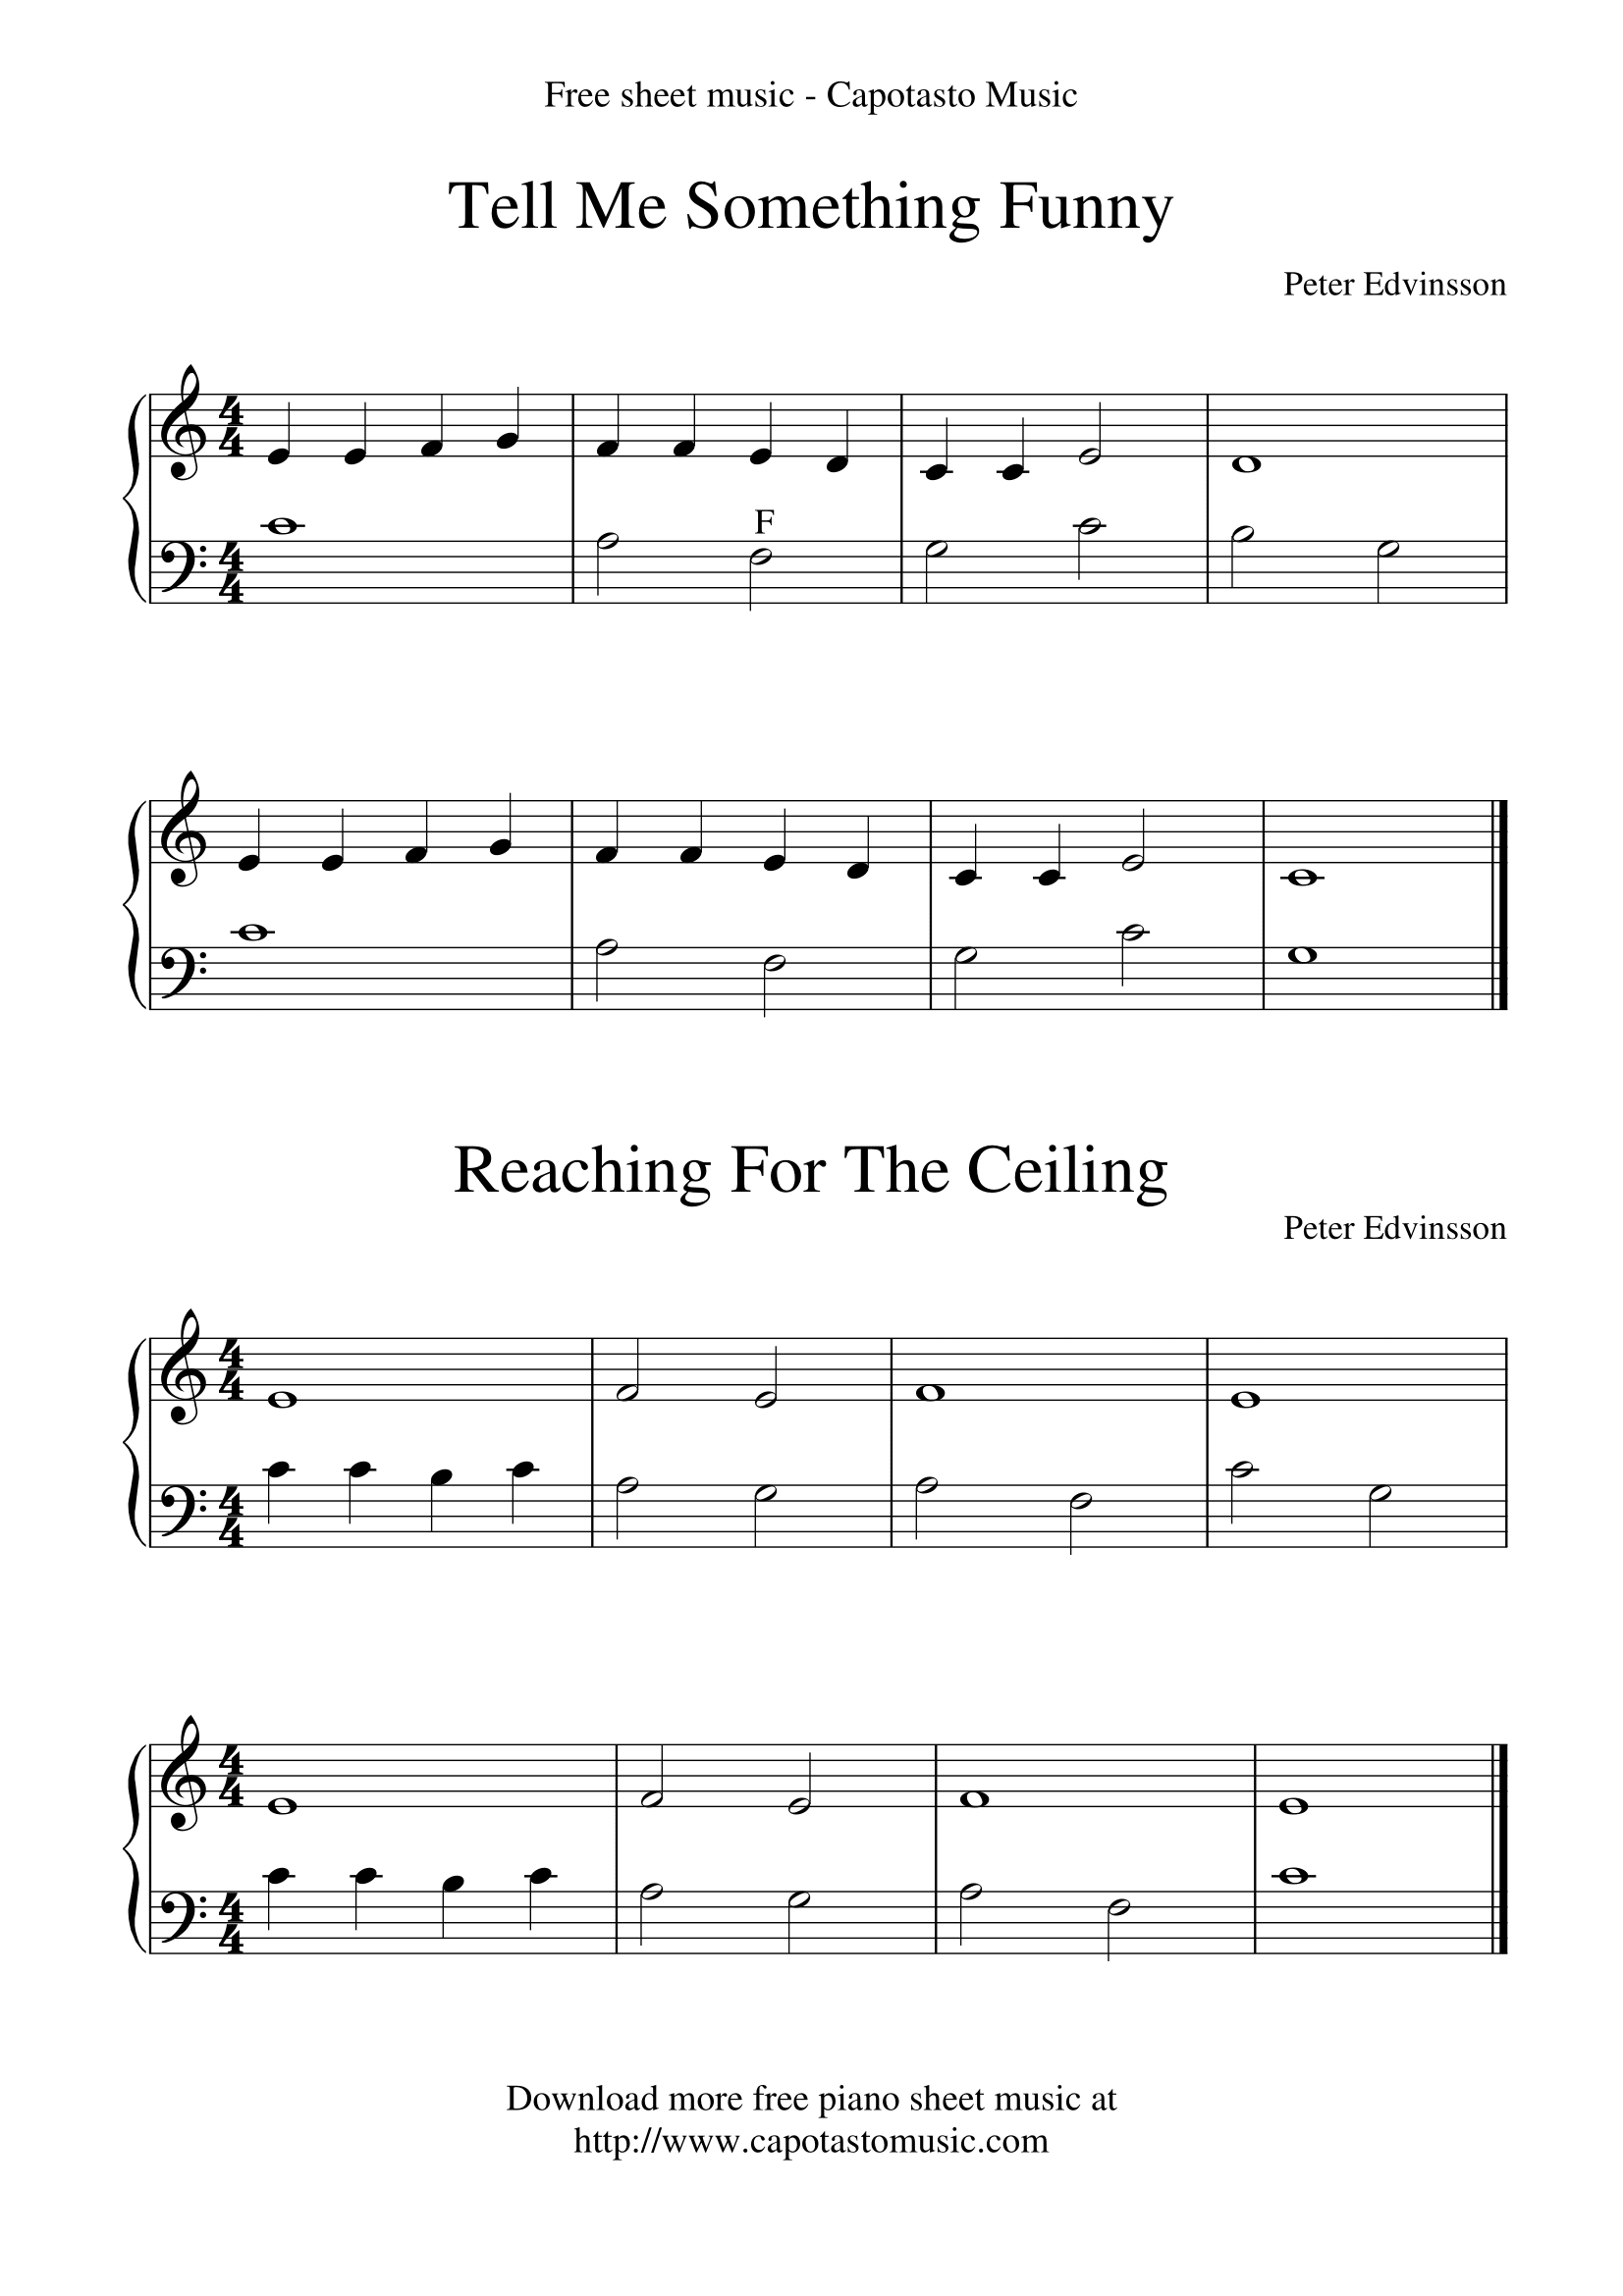half: (1064, 507, 1121, 608), (1109, 798, 1166, 899), (738, 1457, 792, 1558), (770, 1744, 834, 1827), (735, 519, 783, 627), (1090, 1884, 1147, 1973), (1226, 1444, 1271, 1555), (741, 940, 792, 1029), (1071, 393, 1118, 488), (745, 1336, 795, 1425), (1219, 516, 1268, 608), (630, 1748, 681, 1834), (1115, 915, 1160, 1013), (586, 931, 634, 1020), (606, 1463, 650, 1558), (903, 1460, 950, 1548), (1356, 1467, 1400, 1561), (947, 1875, 992, 1963), (770, 1881, 821, 1953), (1058, 1475, 1100, 1565), (615, 1336, 659, 1415), (1366, 535, 1410, 608), (945, 943, 983, 1026), (916, 526, 950, 614), (590, 519, 627, 599)
quarter: (418, 1849, 472, 1963), (498, 1454, 555, 1558), (916, 399, 966, 504), (942, 804, 992, 899), (412, 1454, 462, 1548), (254, 1862, 301, 1960), (336, 1450, 381, 1552), (837, 798, 885, 893), (394, 801, 441, 893), (263, 1447, 304, 1552), (340, 390, 384, 485), (498, 387, 539, 488), (821, 396, 862, 497), (1030, 811, 1077, 899), (349, 1852, 390, 1950), (311, 798, 355, 889), (1001, 390, 1036, 507), (757, 801, 802, 889), (523, 1868, 568, 1957), (418, 393, 462, 478), (485, 798, 529, 883), (232, 801, 279, 874), (751, 390, 789, 475), (263, 396, 301, 478), (678, 804, 717, 886), (669, 393, 707, 472), (593, 393, 627, 472), (593, 801, 627, 874), (634, 1875, 663, 1960)
whole: (1271, 1862, 1334, 1953), (1219, 1336, 1280, 1425), (896, 1336, 966, 1413), (1219, 393, 1273, 491), (1273, 804, 1327, 902), (1273, 937, 1337, 1017), (1268, 1738, 1318, 1840), (942, 1748, 999, 1834), (260, 513, 314, 599), (260, 1748, 307, 1834), (260, 1336, 304, 1421), (235, 915, 276, 1004)
